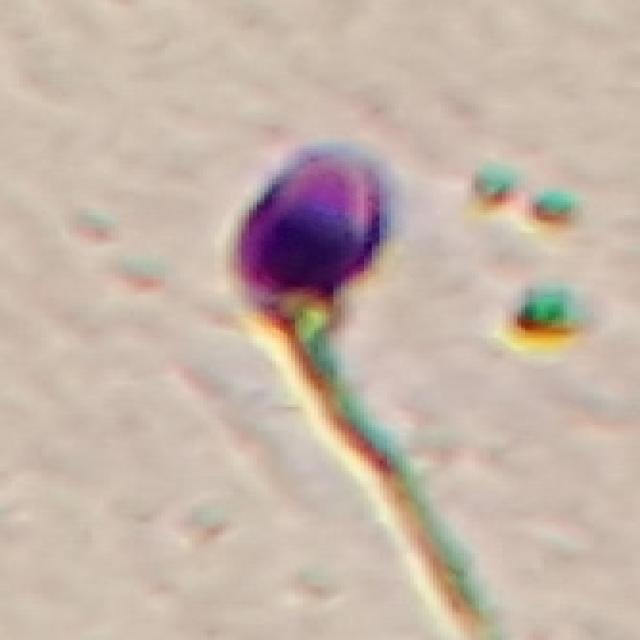normal sperm: (225, 141, 395, 427)
